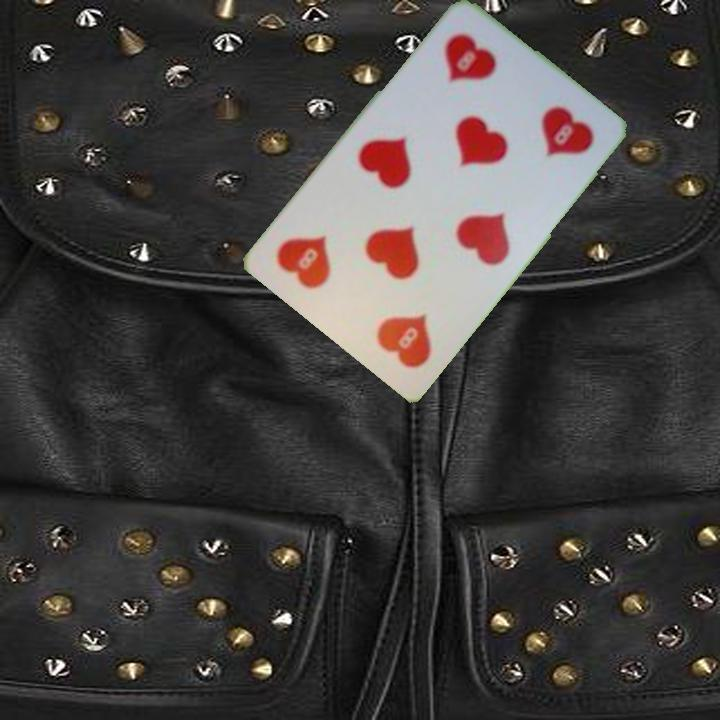h_8.png: (410, 12, 539, 139), (335, 255, 464, 382)
